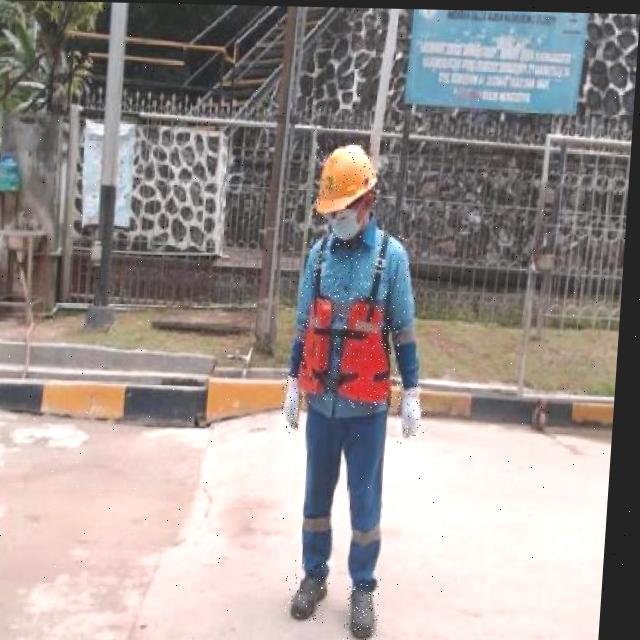Gloves: (405, 383, 429, 437), (288, 373, 309, 428)
Helmet: (316, 140, 384, 215)
Safety-Boot: (357, 575, 388, 637), (299, 571, 338, 618)
Safety-Vest: (302, 227, 405, 406)
